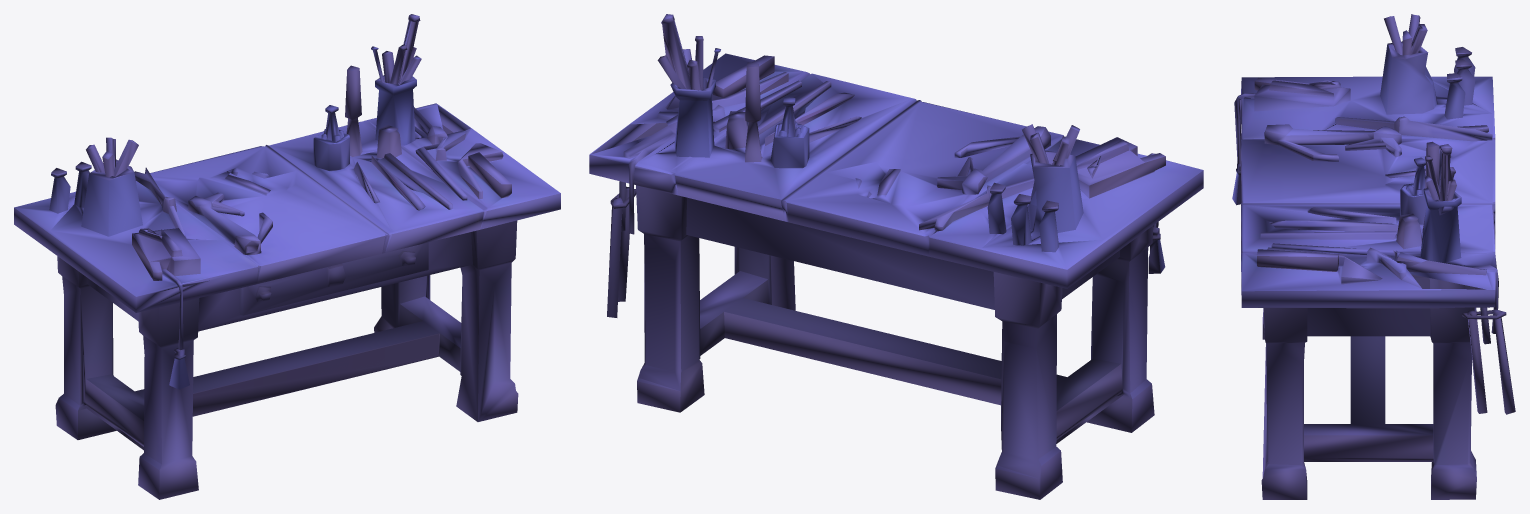
The model's file is model.progressive.glb.
The picture shows the model from 3 angles, left to right: view 1: azimuth 30°, elevation 25°; view 2: azimuth 150°, elevation 25°; view 3: azimuth 270°, elevation 25°; orthographic projection. The views are drawn at different scales.
Parts seen in each view (by area): view 1: mesh_input; view 2: mesh_input; view 3: mesh_input.
Part boxes in pixels (x1,y1,x2,y2): mesh_input: [14, 14, 560, 499]; mesh_input: [589, 14, 1203, 499]; mesh_input: [1232, 14, 1515, 499].
Size of the model in its own units: 1.89 by 1.43 by 1.06.
Materials: 1 (1 with a texture image).
